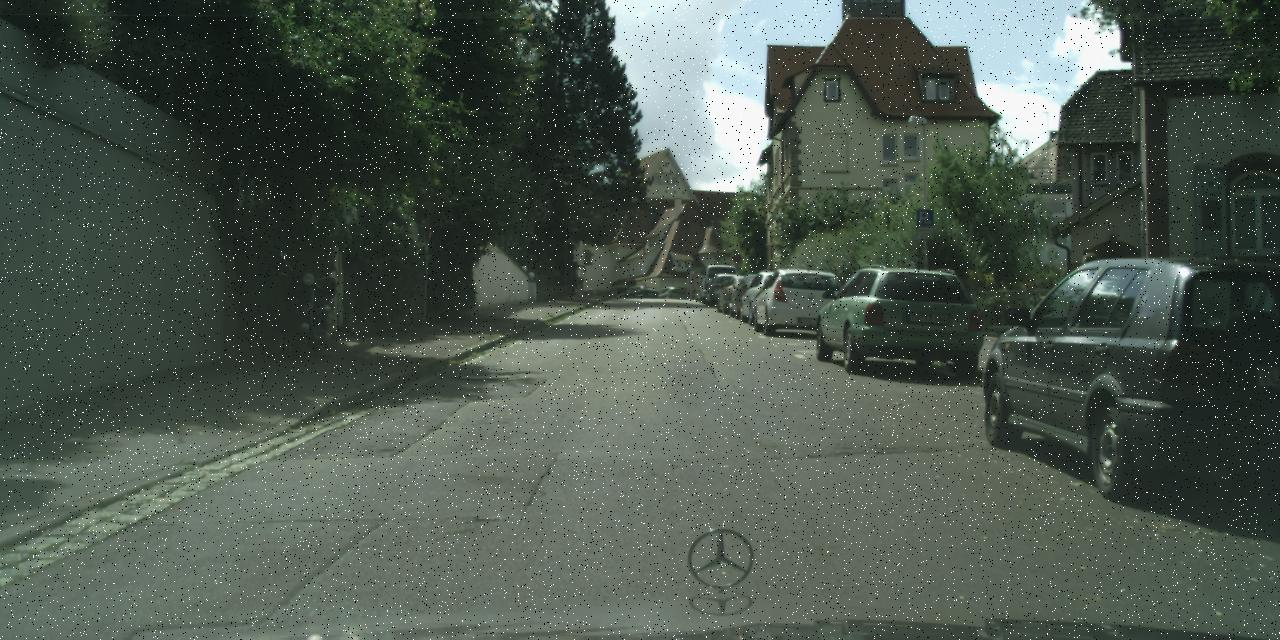ped: (1064, 252, 1108, 362)
